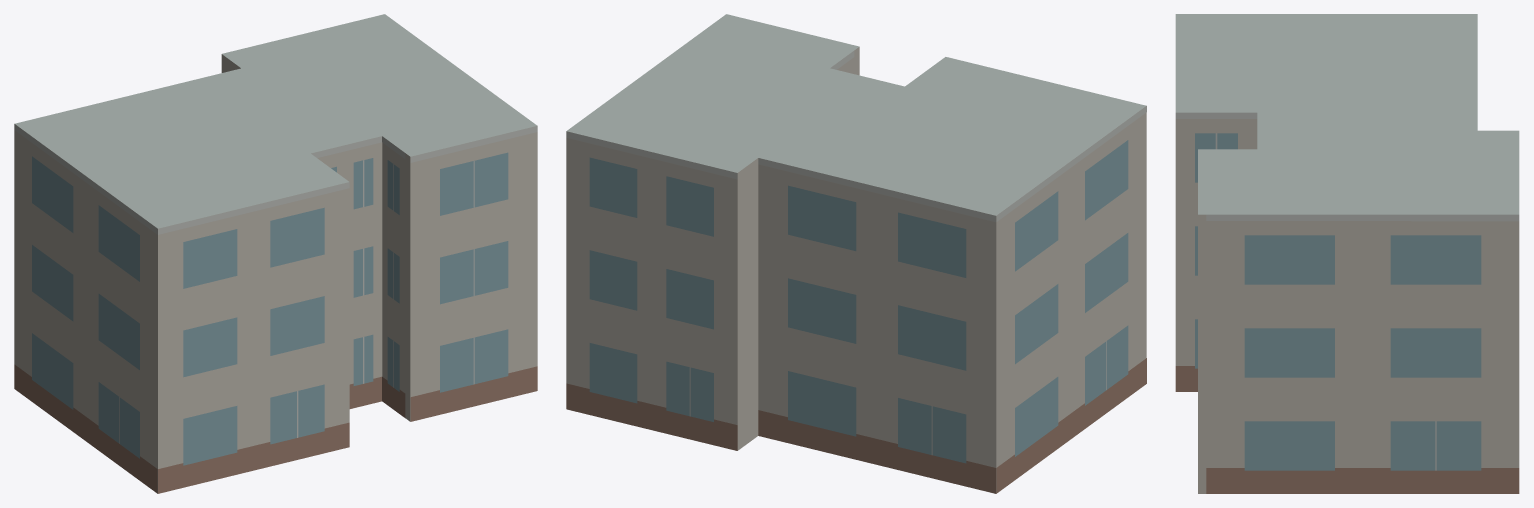
File: survey-upis-33024777.glb
The picture shows the model from 3 angles, left to right: view 1: azimuth 30°, elevation 25°; view 2: azimuth 150°, elevation 25°; view 3: azimuth 270°, elevation 25°; orthographic projection. The views are drawn at different scales.
Visible parts, largest first — view 1: survey-upis-33024777.tmp; view 2: survey-upis-33024777.tmp; view 3: survey-upis-33024777.tmp.
Part boxes in pixels (bbox=[...]): survey-upis-33024777.tmp: bbox=[14, 14, 537, 493]; survey-upis-33024777.tmp: bbox=[566, 14, 1146, 493]; survey-upis-33024777.tmp: bbox=[1175, 14, 1519, 493].
Bounding box in the file's own units: 16.04 × 10.4 × 11.63.
